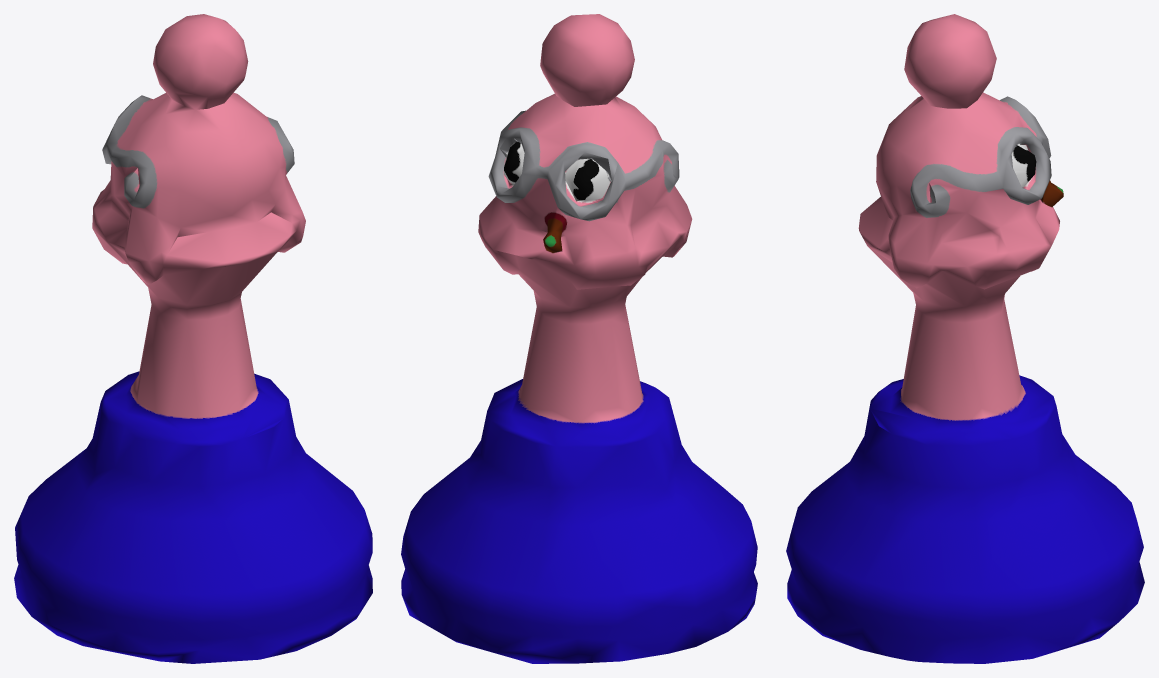
Rendered from w-pawn.glb.
3 renders of one model, left to right at view 1: azimuth 30°, elevation 25°; view 2: azimuth 150°, elevation 25°; view 3: azimuth 270°, elevation 25°, orthographic.
Parts seen in each view (by area): view 1: rook; view 2: rook; view 3: rook.
Part boxes in pixels (bbox=[...]): rook: bbox=[14, 14, 372, 663]; rook: bbox=[401, 14, 757, 663]; rook: bbox=[786, 14, 1144, 663].
Bounding box in the file's own units: 0.334 × 0.5918 × 0.3356.
Materials: 1 (1 with a texture image).
